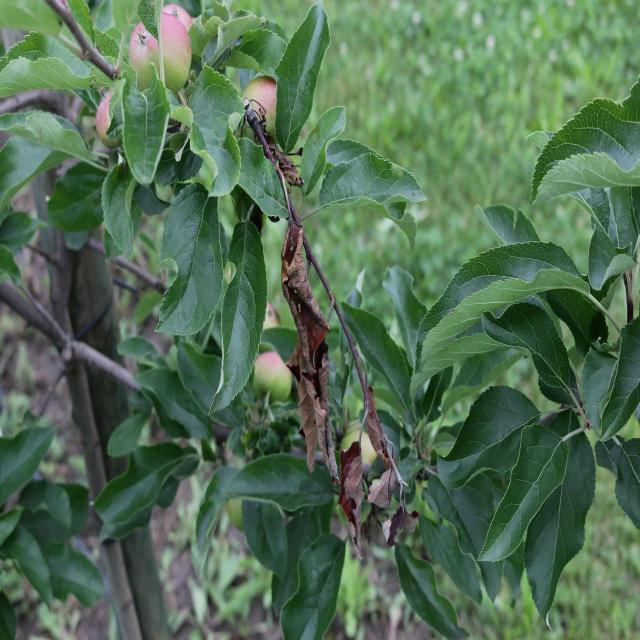-FireBlight-: (246, 105, 416, 559)
